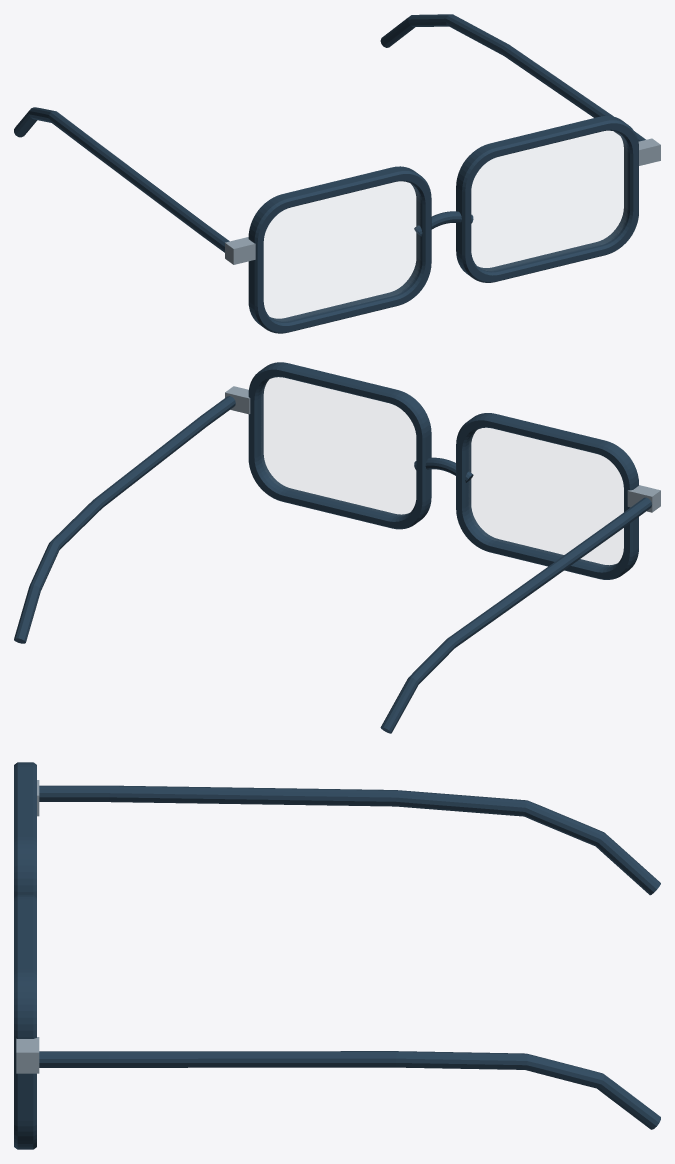
Rendered from reference-frame-v1.glb.
The picture shows the model from 3 angles, top to bottom: view 1: azimuth 30°, elevation 25°; view 2: azimuth 150°, elevation 25°; view 3: azimuth 270°, elevation 25°; orthographic projection. The views are drawn at different scales.
Parts seen in each view (by area): view 1: frame_right_rim, frame_left_rim, frame_right_temple, frame_left_temple, frame_left_hinge, frame_right_hinge, frame_nose_bridge; view 2: frame_right_rim, frame_left_rim, frame_left_temple, frame_right_temple, frame_left_hinge; view 3: frame_left_temple, frame_right_temple, frame_right_rim, frame_left_rim, frame_right_hinge.
Part boxes in pixels (<box>): frame_right_rim: <box>456,116,638,282</box>; frame_left_rim: <box>248,166,431,333</box>; frame_right_temple: <box>380,14,645,141</box>; frame_left_temple: <box>14,107,229,252</box>; frame_left_hinge: <box>225,237,255,264</box>; frame_right_hinge: <box>638,138,660,165</box>; frame_nose_bridge: <box>414,211,473,236</box>; frame_right_rim: <box>248,362,431,529</box>; frame_left_rim: <box>456,413,638,579</box>; frame_left_temple: <box>380,497,651,733</box>; frame_right_temple: <box>14,396,235,643</box>; frame_left_hinge: <box>627,485,660,512</box>; frame_left_temple: <box>39,785,660,895</box>; frame_right_temple: <box>39,1051,660,1129</box>; frame_right_rim: <box>14,894,36,1149</box>; frame_left_rim: <box>14,762,36,896</box>; frame_right_hinge: <box>16,1037,39,1073</box>.
Size of the model in its own units: 140 by 42 by 140.
